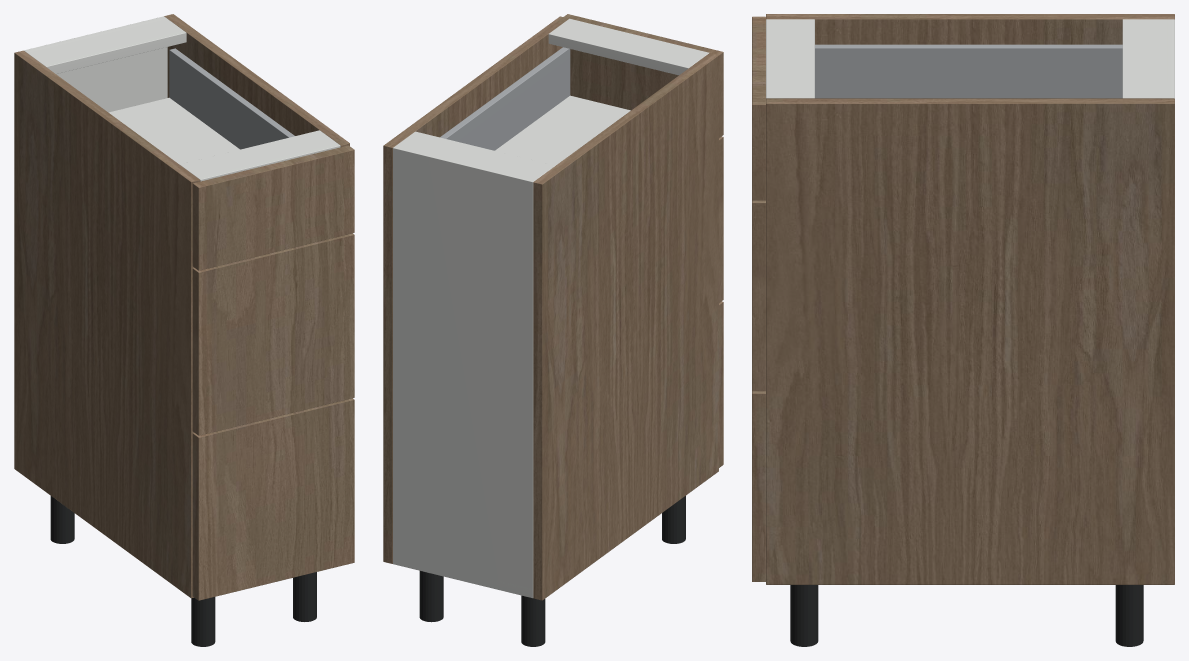
The model's file is oppein-pb-mnw-3db12.glb.
The picture shows the model from 3 angles, left to right: view 1: azimuth 30°, elevation 25°; view 2: azimuth 150°, elevation 25°; view 3: azimuth 270°, elevation 25°; orthographic projection. The views are drawn at different scales.
Parts seen in each view (by area): view 1: Cabinet side, Drawer front, Drawer front.001, Drawer front.002, Drawer side.005, Cabinet back, Cabinet side.001, Drawer floor.002, Top support rail, Top support rail.001, Adjustable foot.001, Adjustable foot.003 (+1 smaller); view 2: Cabinet side, Cabinet back, Cabinet side.001, Drawer side.005, Drawer front.002, Drawer floor.002, Top support rail.001, Top support rail, Adjustable foot, Adjustable foot.002, Adjustable foot.001, Drawer front.001 (+1 smaller); view 3: Cabinet side.001, Drawer side.004, Cabinet side, Top support rail.001, Top support rail, Drawer front.001, Drawer front, Drawer front.002, Adjustable foot.002, Adjustable foot.003, Cabinet back.
Boxes of the visible parts, x1,y1,x2,y2 form: Cabinet side: [14, 50, 200, 598]; Drawer front: [192, 398, 354, 600]; Drawer front.001: [192, 233, 354, 435]; Drawer front.002: [192, 145, 354, 270]; Drawer side.005: [169, 48, 294, 149]; Cabinet back: [24, 16, 167, 112]; Cabinet side.001: [164, 14, 349, 146]; Drawer floor.002: [108, 97, 239, 164]; Top support rail: [25, 18, 186, 73]; Top support rail.001: [179, 130, 340, 181]; Adjustable foot.001: [191, 597, 215, 646]; Adjustable foot.003: [293, 572, 316, 621]; Cabinet side: [533, 53, 718, 600]; Cabinet back: [393, 145, 535, 597]; Cabinet side.001: [383, 16, 568, 563]; Drawer side.005: [440, 47, 570, 150]; Drawer front.002: [564, 14, 723, 137]; Drawer floor.002: [495, 95, 630, 165]; Top support rail.001: [548, 18, 709, 75]; Top support rail: [396, 131, 554, 179]; Adjustable foot: [521, 595, 545, 646]; Adjustable foot.002: [419, 571, 443, 622]; Adjustable foot.001: [662, 496, 685, 543]; Drawer front.001: [719, 136, 723, 302]; Cabinet side.001: [766, 98, 1174, 584]; Drawer side.004: [815, 44, 1122, 98]; Cabinet side: [766, 14, 1174, 44]; Top support rail.001: [766, 19, 814, 98]; Top support rail: [1122, 19, 1166, 98]; Drawer front.001: [752, 200, 765, 391]; Drawer front: [752, 391, 765, 581]; Drawer front.002: [752, 16, 765, 200]; Adjustable foot.002: [1115, 585, 1143, 646]; Adjustable foot.003: [790, 585, 818, 646]; Cabinet back: [1167, 19, 1174, 98].
Bounding box in the file's own units: 0.3048 × 0.8763 × 0.6064.
Materials: 4 (1 with a texture image).
